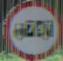Heavy Vehicles: (6, 1, 55, 48)
